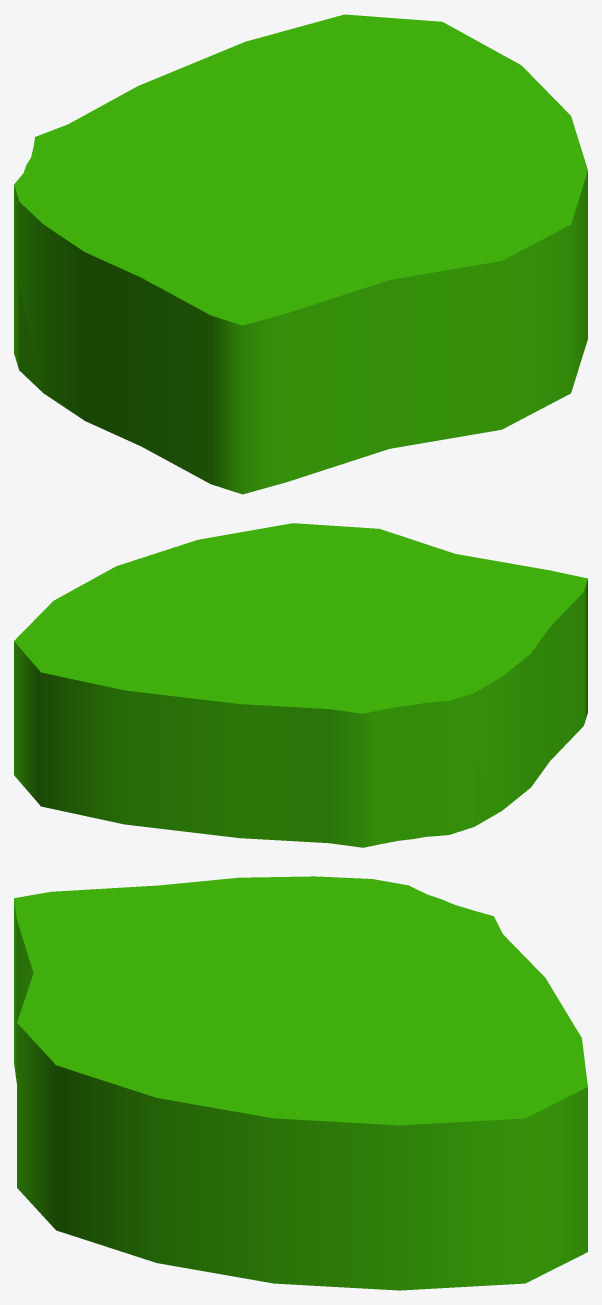
Rendered from Platform_CaveOasis_Cylinder_7_.fbx.
3 views of the same model, one above another, from view 1: azimuth 30°, elevation 25°; view 2: azimuth 150°, elevation 25°; view 3: azimuth 270°, elevation 25° (orthographic). The views are drawn at different scales.
Parts seen in each view (by area): view 1: Platform_CaveOasis_Cylinder_7_; view 2: Platform_CaveOasis_Cylinder_7_; view 3: Platform_CaveOasis_Cylinder_7_.
Part boxes in pixels (x1=…): Platform_CaveOasis_Cylinder_7_: x1=14, y1=14, x2=587, y2=494; Platform_CaveOasis_Cylinder_7_: x1=14, y1=523, x2=587, y2=847; Platform_CaveOasis_Cylinder_7_: x1=14, y1=876, x2=587, y2=1290.
Bounding box in the file's own units: 19.4 × 6 × 18.9.
